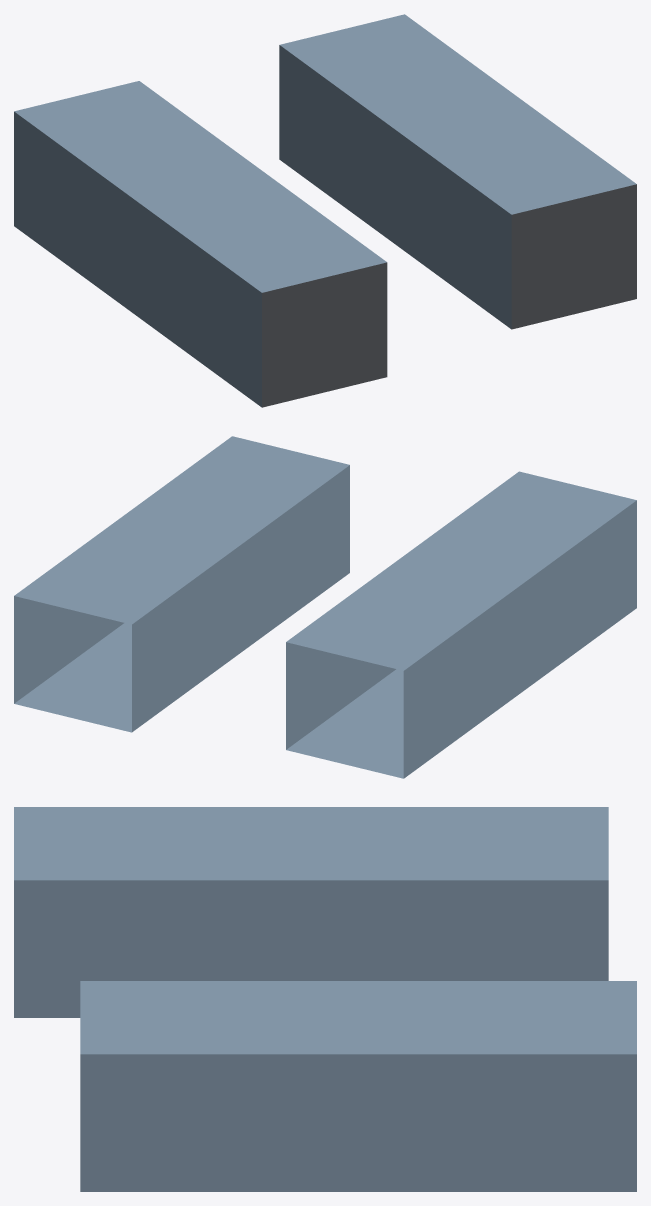
File: island_bldg_14_10.obj
3 views of the same model, one above another, from view 1: azimuth 30°, elevation 25°; view 2: azimuth 150°, elevation 25°; view 3: azimuth 270°, elevation 25° (orthographic). The views are drawn at different scales.
Parts seen in each view (by area): view 1: island_bldg_14_10; view 2: island_bldg_14_10; view 3: island_bldg_14_10.
Part boxes in pixels (x1,y1,x2,y2): island_bldg_14_10: [14, 14, 636, 407]; island_bldg_14_10: [14, 436, 636, 778]; island_bldg_14_10: [14, 807, 636, 1191].
Size of the model in its own units: 103 by 30.4 by 115.
